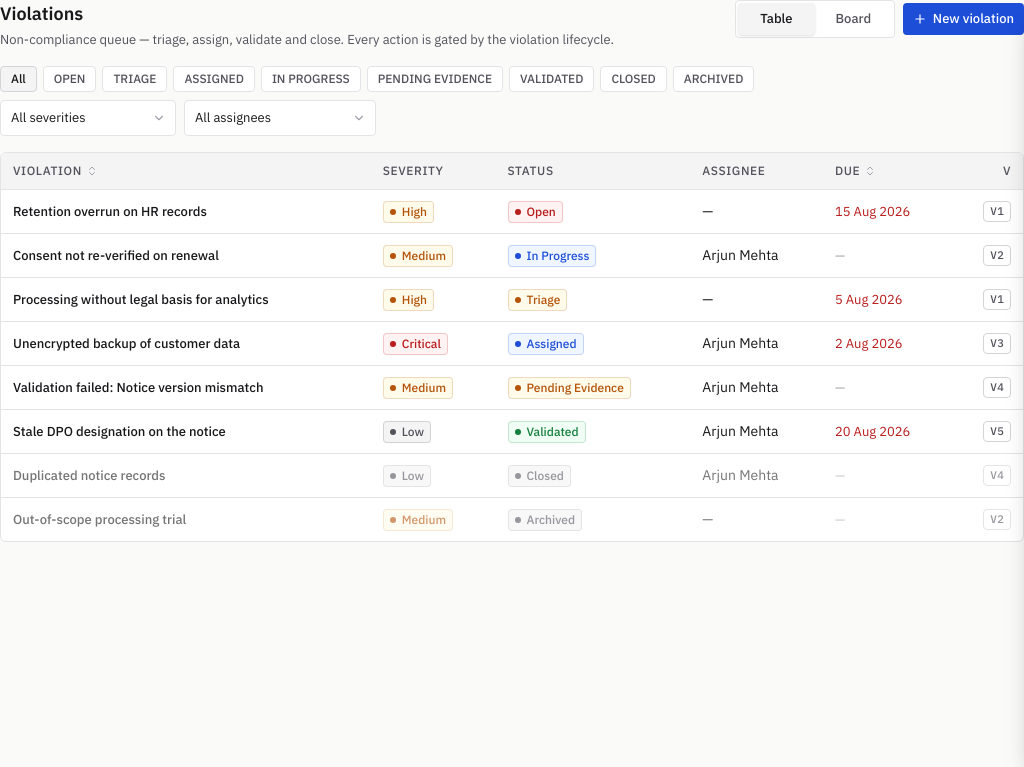
Test: ViolationsView (§9.8) › gates Close behind VALIDATED — IN_PROGRESS has no close button
Click the text "Consent not re-verified on renewal".
click(116, 255)  # box [13,247,219,264]
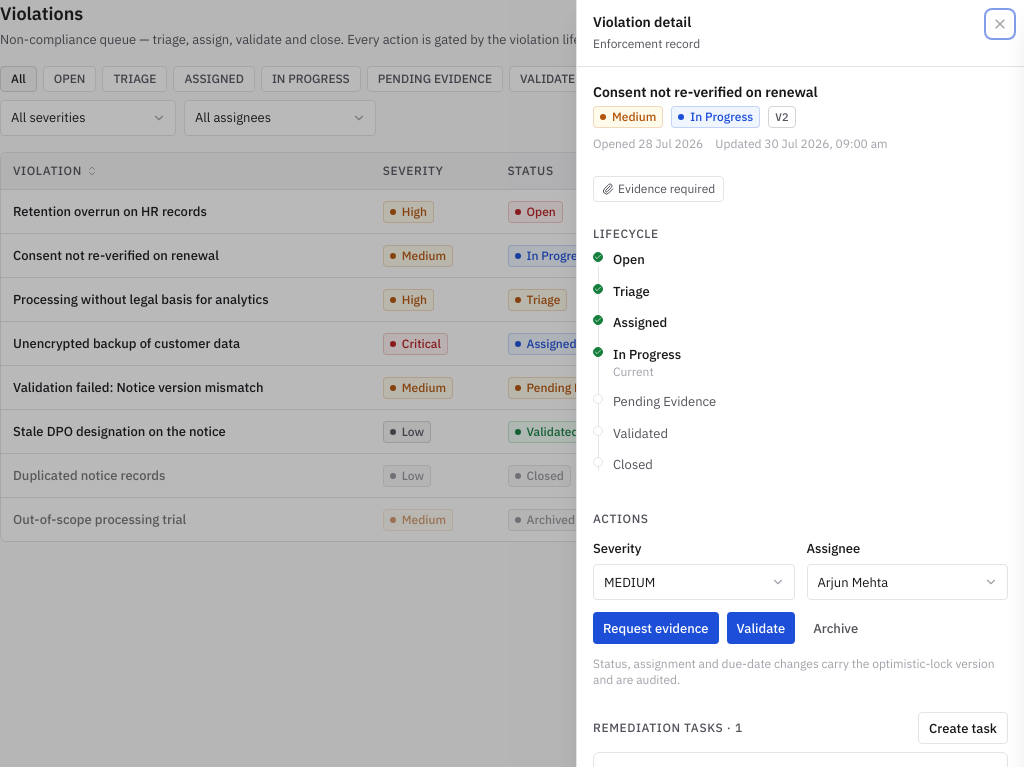
Now the button "Request evidence" is shown, box [593,612,718,644]
Now the button "Validate" is shown, box [726,612,795,644]
